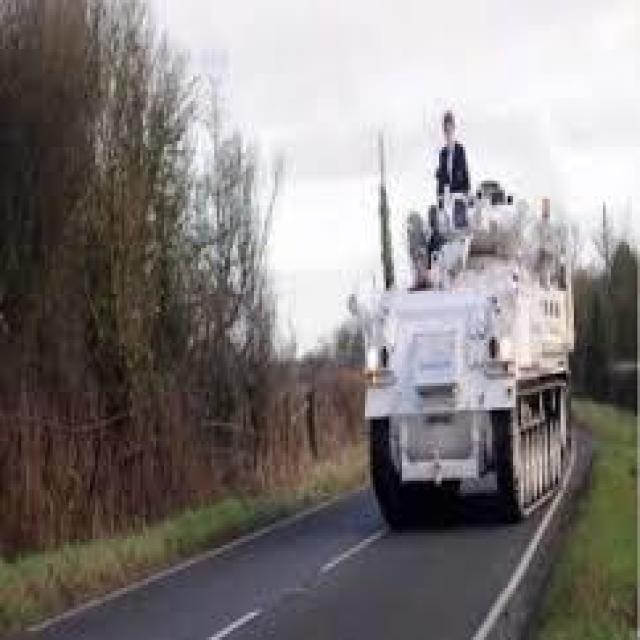Tanks: (378, 184, 577, 508)
